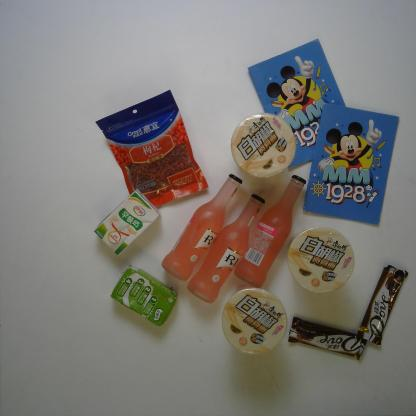Alcohol: (186, 191, 267, 305), (161, 171, 244, 282), (232, 173, 308, 289)
Chocolate: (355, 262, 411, 350), (284, 313, 368, 365)
Dried Fruit: (93, 86, 210, 209)
Instant Noodles: (284, 224, 357, 298), (220, 281, 289, 358), (228, 111, 298, 180)
Milk: (92, 186, 162, 258), (108, 261, 178, 329)
Stationery: (246, 35, 350, 172), (300, 101, 402, 228)
